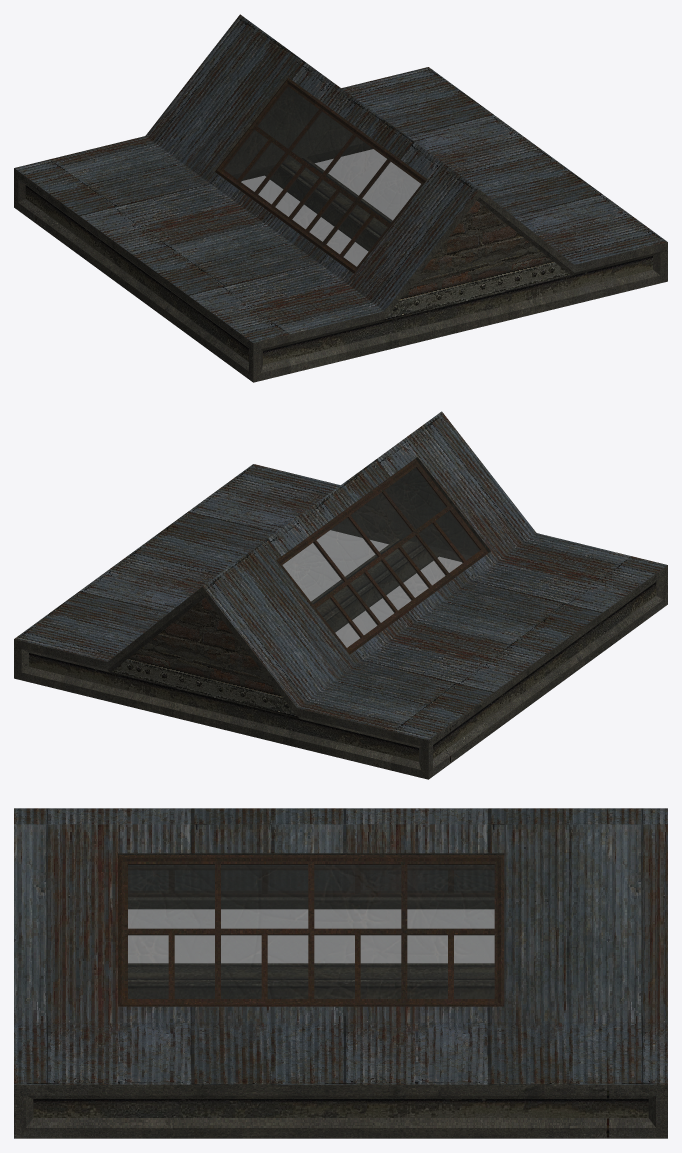
File: roof_bx_1_corner_1.glb
The picture shows the model from 3 angles, top to bottom: view 1: azimuth 30°, elevation 25°; view 2: azimuth 150°, elevation 25°; view 3: azimuth 270°, elevation 25°; orthographic projection. The views are drawn at different scales.
Parts seen in each view (by area): view 1: roof_bx_1_corner_1; view 2: roof_bx_1_corner_1; view 3: roof_bx_1_corner_1.
Part boxes in pixels (x1=…): roof_bx_1_corner_1: x1=14, y1=14, x2=667, y2=382; roof_bx_1_corner_1: x1=14, y1=411, x2=667, y2=779; roof_bx_1_corner_1: x1=14, y1=808, x2=667, y2=1138.
Size of the model in its own units: 4.4 by 1.4 by 4.4.
Materials: 5 (5 with a texture image).
